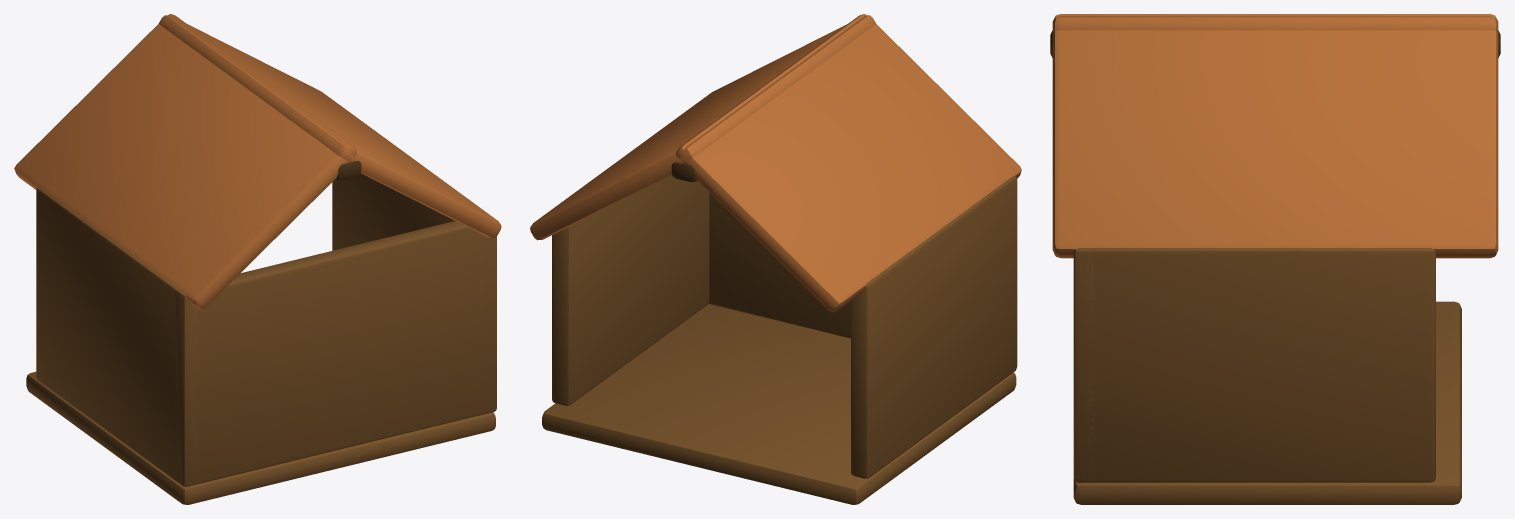
Rendered from prop_shelter.glb.
3 views of the same model, side by side, from view 1: azimuth 30°, elevation 25°; view 2: azimuth 150°, elevation 25°; view 3: azimuth 270°, elevation 25° (orthographic). The views are drawn at different scales.
Visible parts, largest first — view 1: sh_wall_b, sh_roof_r, sh_wall_l, sh_roof_l, sh_floor, sh_wall_r; view 2: sh_roof_r, sh_floor, sh_wall_l, sh_wall_r, sh_roof_l, sh_wall_b; view 3: sh_roof_l, sh_wall_r, sh_floor, sh_roof_r, sh_wall_b.
Part boxes in pixels (x1,y1,x2,y2): sh_wall_b: (175, 221, 494, 486); sh_roof_r: (14, 14, 356, 309); sh_wall_l: (36, 187, 198, 486); sh_roof_l: (158, 15, 501, 237); sh_floor: (26, 371, 495, 504); sh_wall_r: (332, 173, 496, 414); sh_roof_r: (676, 14, 1021, 312); sh_floor: (542, 304, 1016, 504); sh_wall_l: (851, 176, 1017, 478); sh_wall_r: (552, 175, 709, 405); sh_roof_l: (530, 15, 876, 240); sh_wall_b: (709, 177, 1015, 368); sh_roof_l: (1052, 14, 1498, 258); sh_wall_r: (1073, 248, 1435, 482); sh_floor: (1073, 301, 1461, 504); sh_roof_r: (1052, 16, 1498, 31); sh_wall_b: (1078, 248, 1094, 482).
Bounding box in the file's own units: 1.7 × 1.7 × 1.74.
